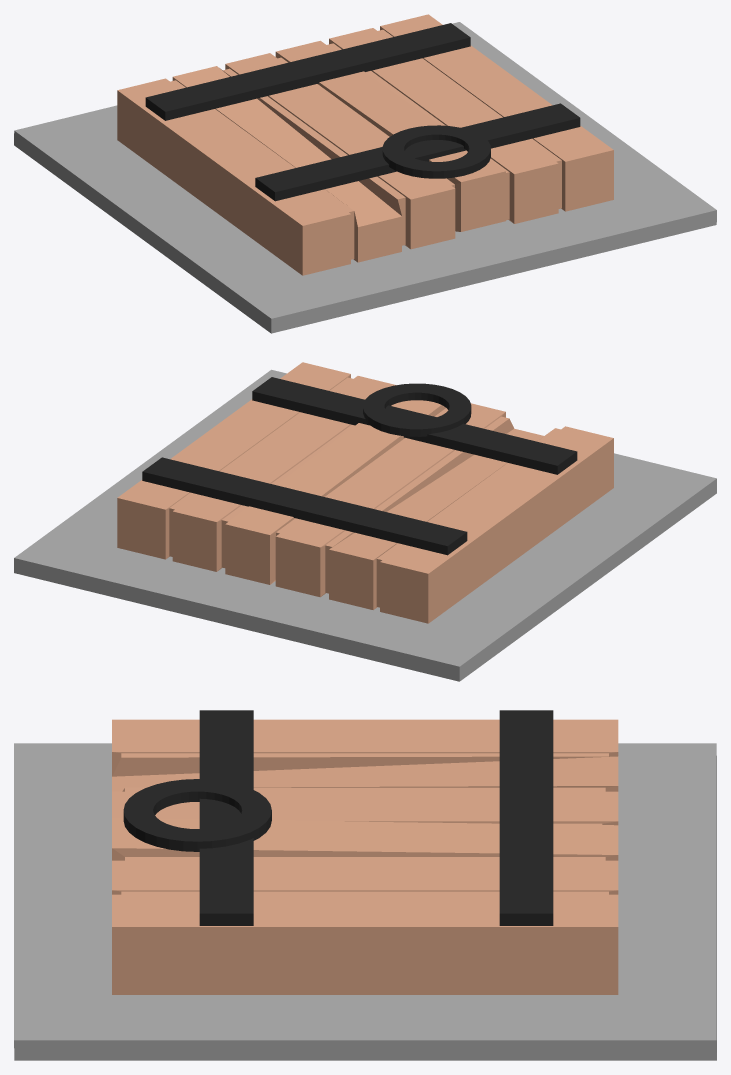
The model's file is hatch.fbx.
3 renders of one model, top to bottom at view 1: azimuth 30°, elevation 25°; view 2: azimuth 150°, elevation 25°; view 3: azimuth 270°, elevation 25°, orthographic. The views are drawn at different scales.
Parts seen in each view (by area): view 1: Circle; view 2: Circle; view 3: Circle.
Boxes of the visible parts, bbox=[...] form: Circle: bbox=[14, 14, 716, 333]; Circle: bbox=[14, 362, 716, 681]; Circle: bbox=[14, 710, 716, 1060].
Bounding box in the file's own units: 351 × 59.77 × 351.
